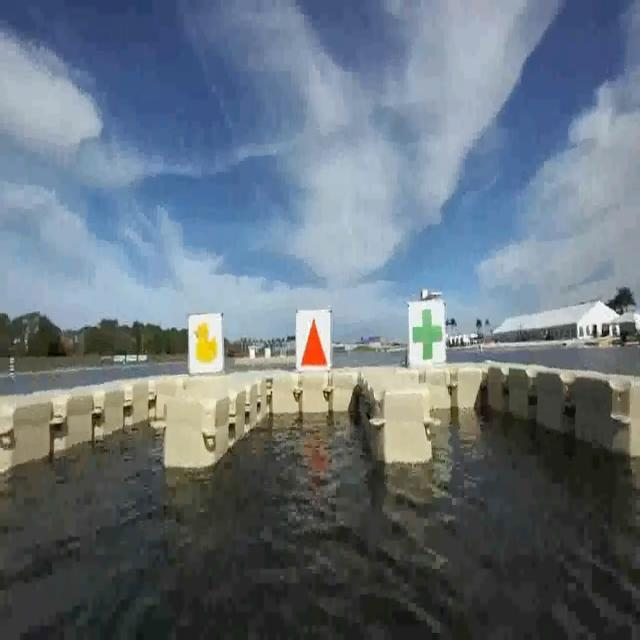blue-cross: (412, 301, 445, 368)
yellow-duck: (187, 311, 221, 377)
